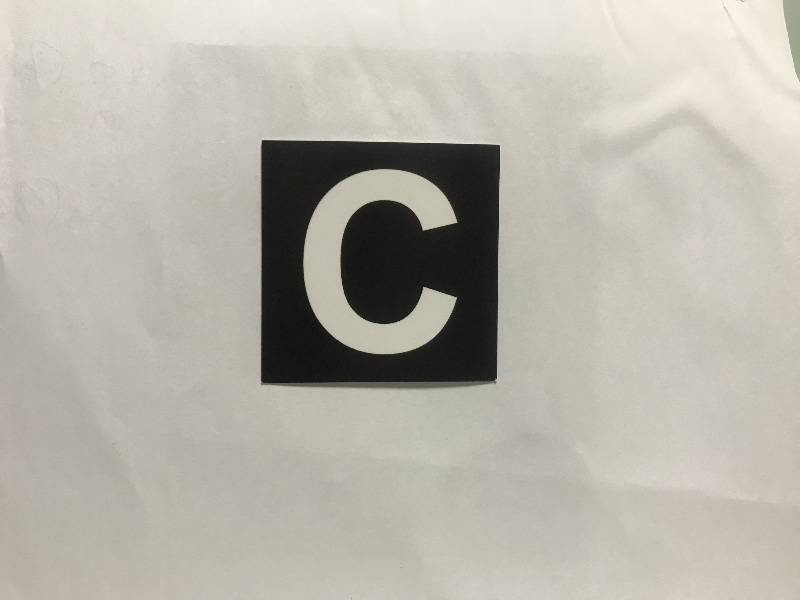C-13: (263, 140, 497, 382)
